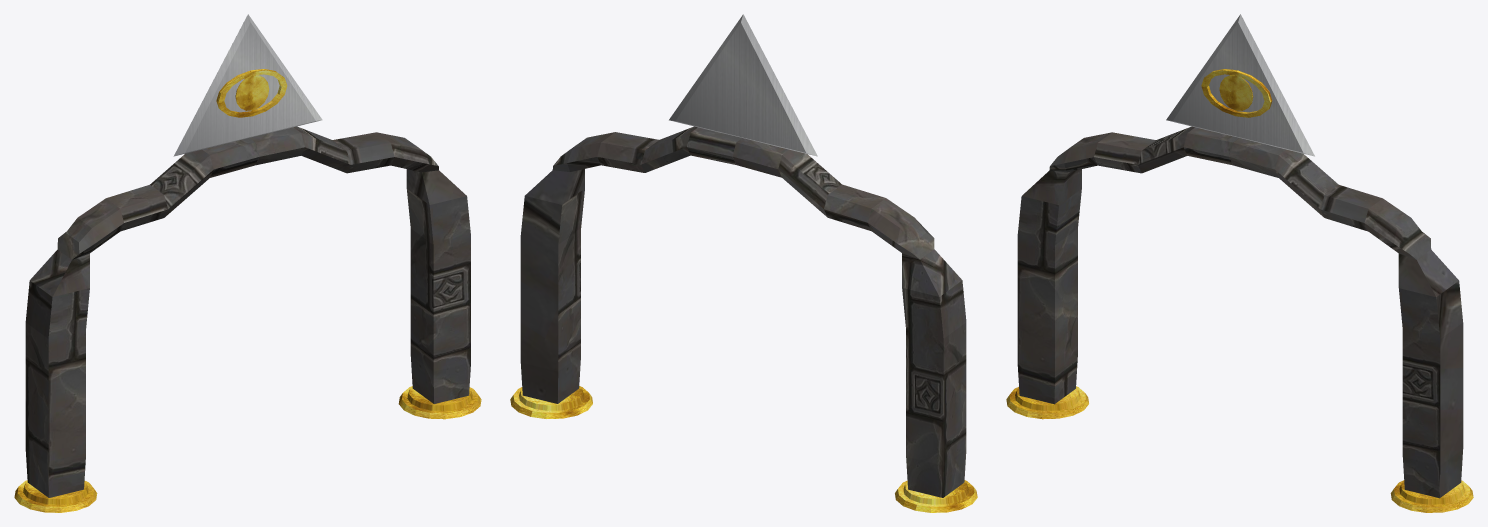
The model's file is GodotCheckpoint_01.glb.
3 renders of one model, left to right at view 1: azimuth 30°, elevation 25°; view 2: azimuth 150°, elevation 25°; view 3: azimuth 330°, elevation 25°, orthographic.
Parts seen in each view (by area): view 1: Checkpoint; view 2: Checkpoint; view 3: Checkpoint.
Boxes of the visible parts, <box> form: Checkpoint: <box>14,14,481,512</box>; Checkpoint: <box>510,14,977,512</box>; Checkpoint: <box>1006,14,1473,512</box>.
Bounding box in the file's own units: 6.77 × 6.15 × 1.07.
1 material, 1 textured.
